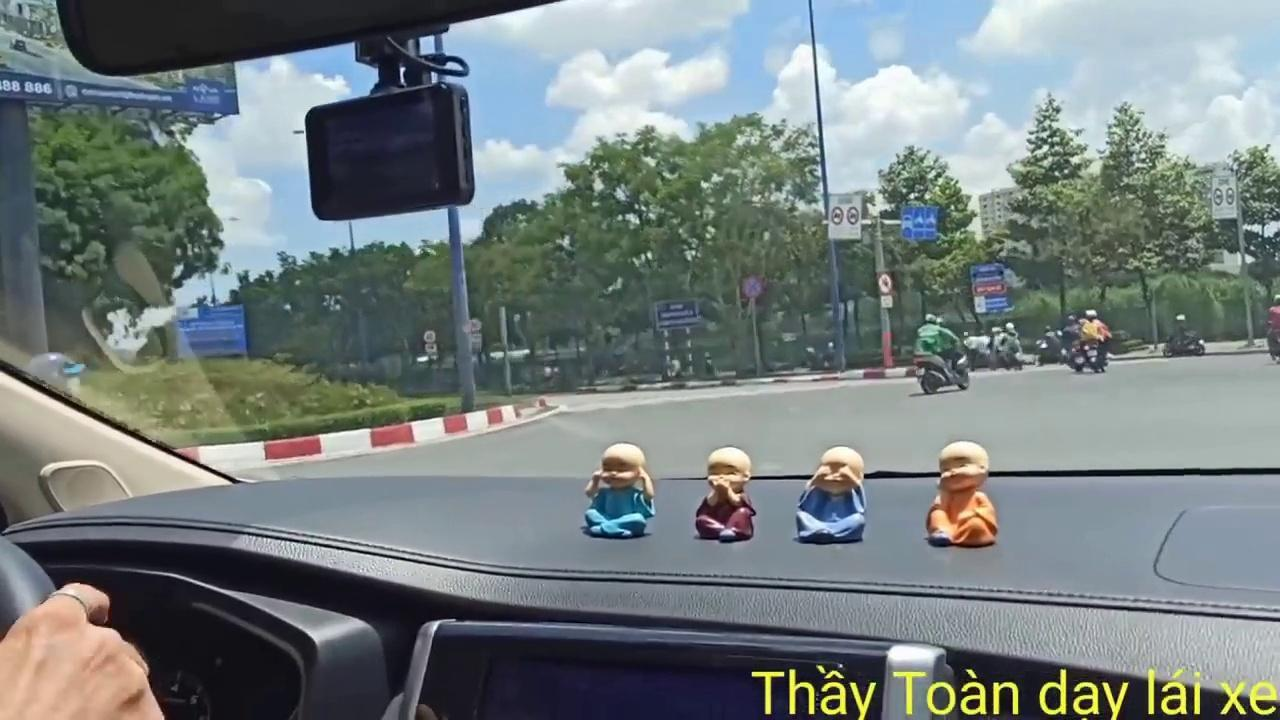Cấm cac phương tiện hoạt động trong khung giờ cố định: (827, 192, 862, 241)
Cấm dừng - Cấm đỗ: (740, 274, 764, 298)
Cấm xe máy: (876, 271, 896, 295)
Khác: (175, 305, 248, 356), (969, 263, 1015, 314)
Làn đường cho từng xe: (899, 204, 937, 242)
